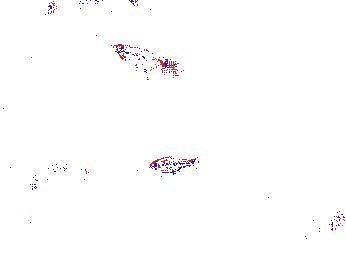X-ray fish: (43, 157, 96, 186), (306, 203, 346, 233), (313, 147, 331, 185)
red belly glassfish: (149, 155, 199, 173), (45, 3, 56, 16)
redtail glassfish: (108, 41, 178, 81), (23, 1, 76, 22)
